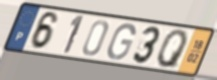0: (81, 19, 110, 57)
1: (61, 15, 86, 56)
3: (132, 24, 163, 66)
6: (26, 11, 62, 52)
G: (106, 23, 137, 62)
Q: (156, 29, 189, 70)
